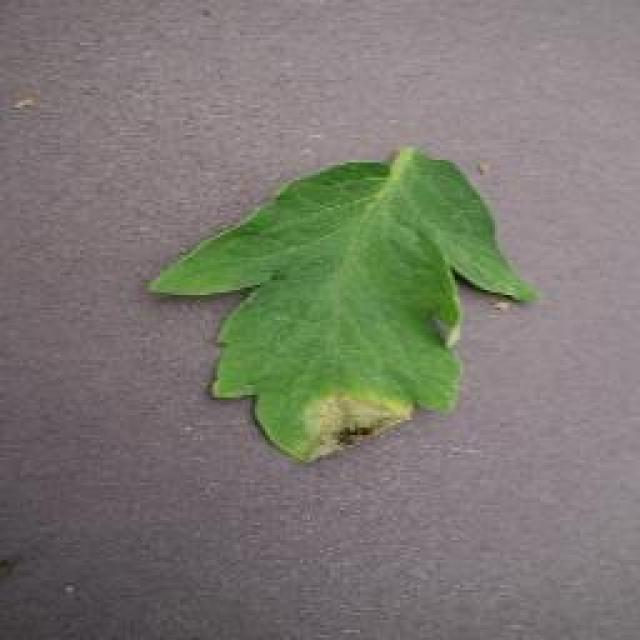Tomato Late Blight: (266, 382, 416, 456)
